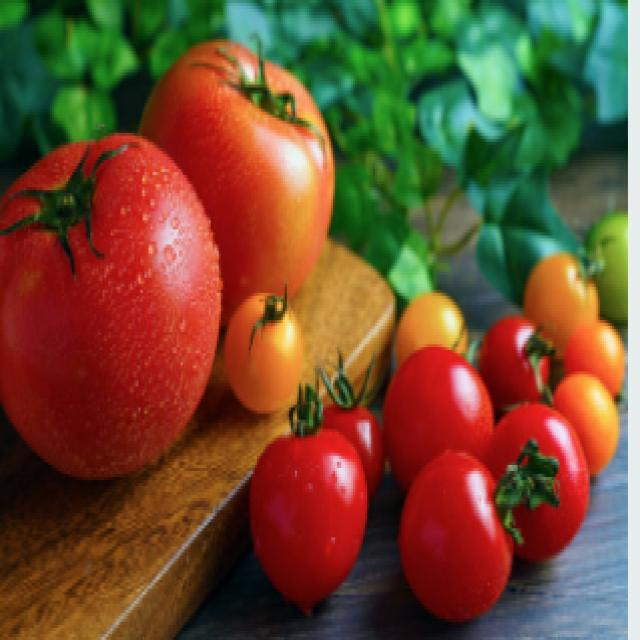Tomato: (0, 124, 223, 471)
